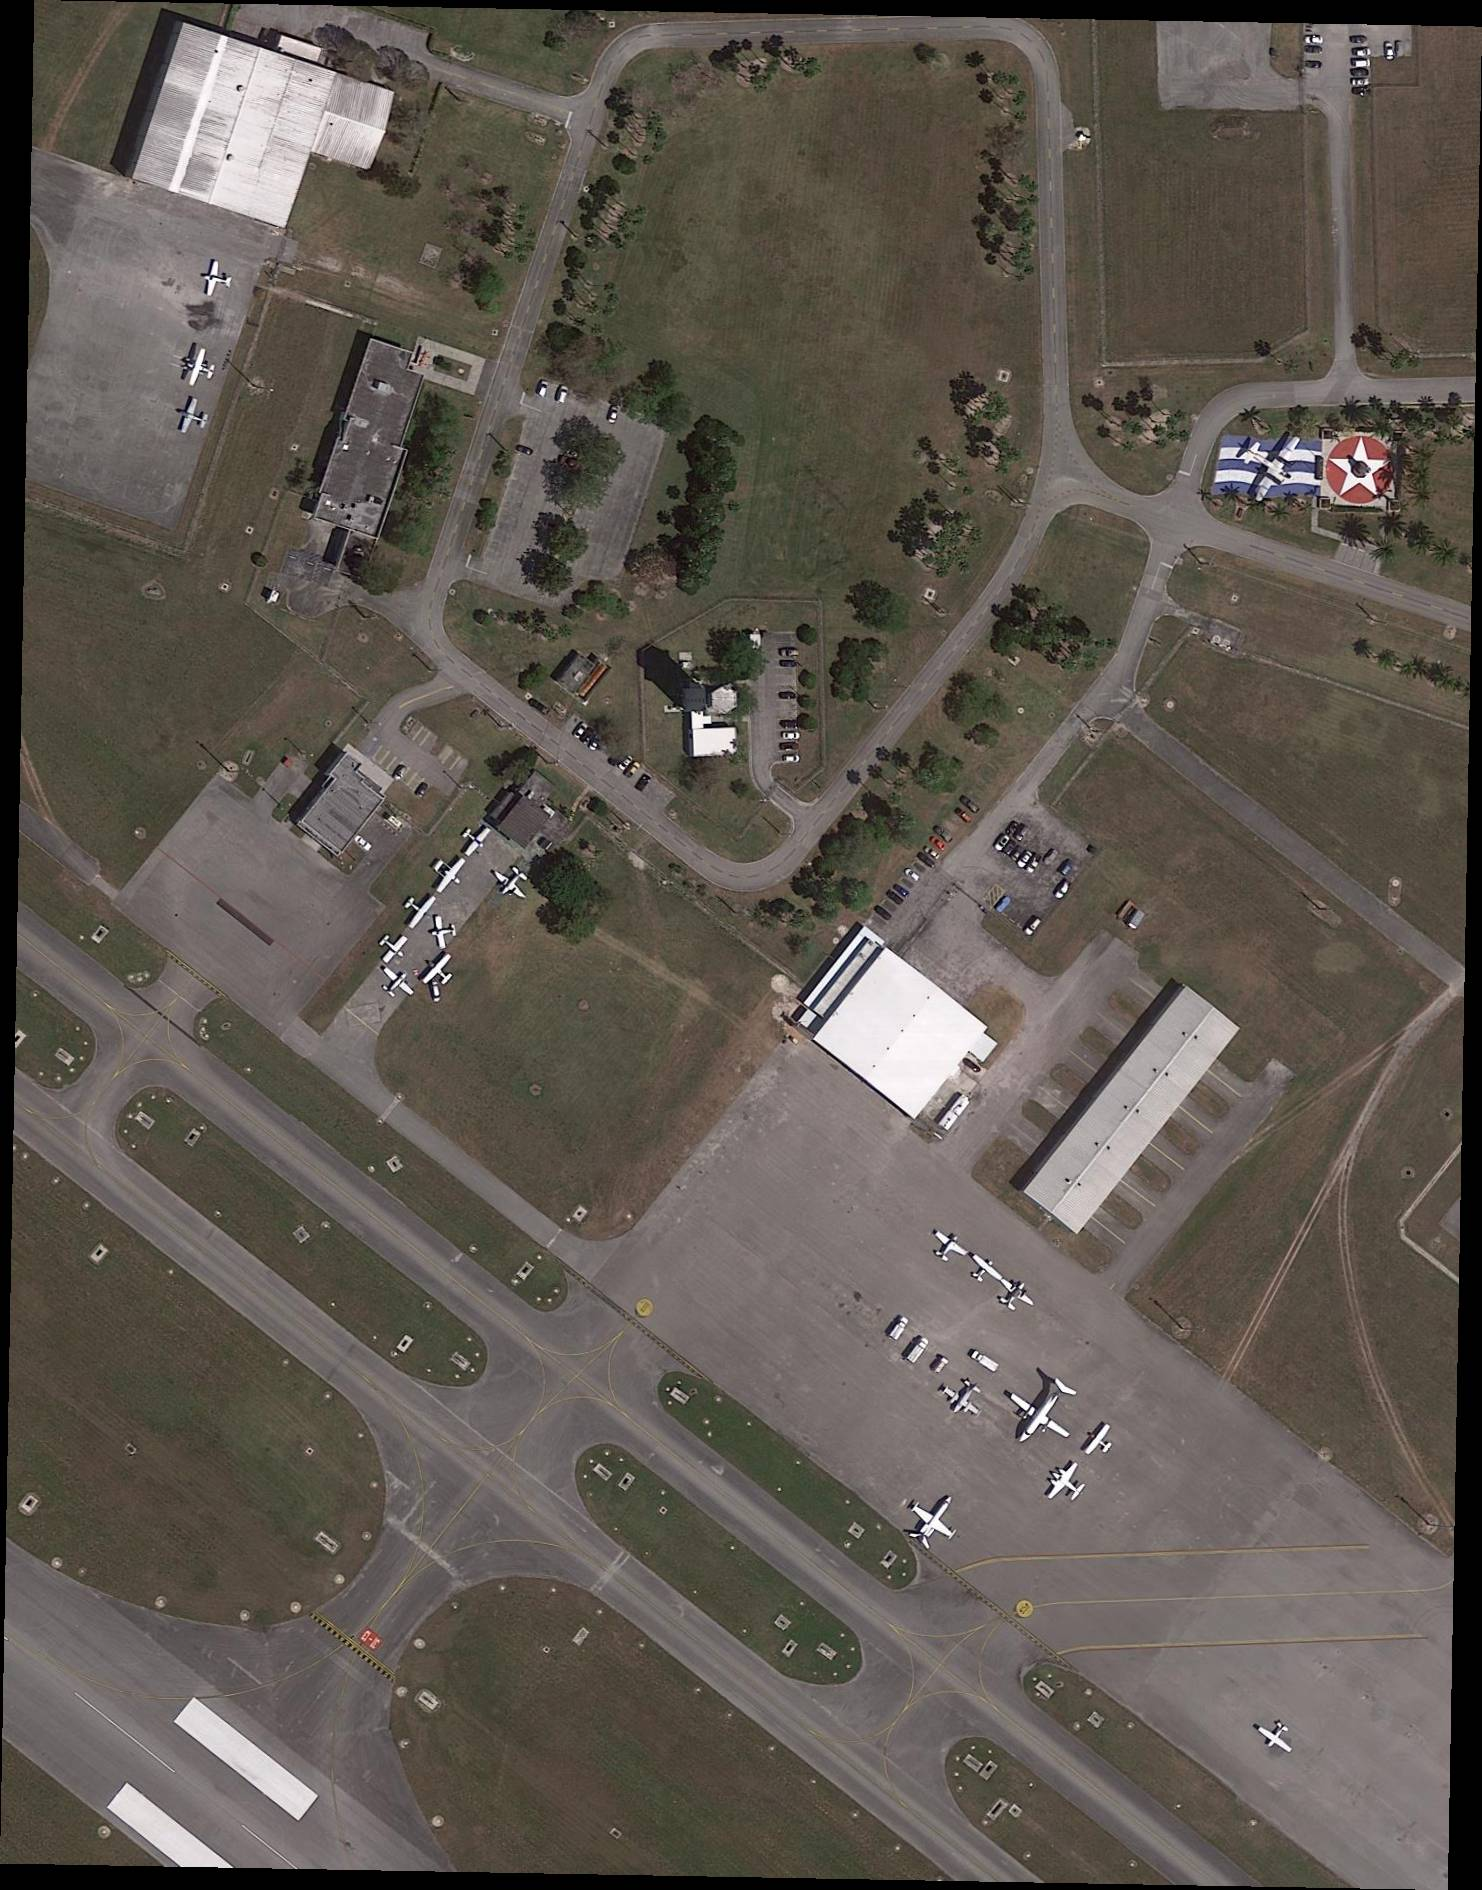plane: (991, 1362, 1092, 1467), (1224, 417, 1310, 509), (899, 1483, 971, 1559), (1036, 1453, 1095, 1514), (934, 1370, 993, 1428), (422, 847, 474, 901), (991, 1272, 1042, 1321), (1253, 1714, 1303, 1763), (488, 859, 537, 908), (394, 884, 442, 934), (925, 1226, 974, 1272), (374, 960, 420, 1009), (416, 947, 462, 994), (169, 394, 213, 442), (1079, 1417, 1121, 1465), (962, 1250, 1006, 1293), (371, 927, 416, 970), (179, 345, 221, 391), (453, 816, 494, 861), (199, 259, 236, 301), (428, 911, 459, 951)
